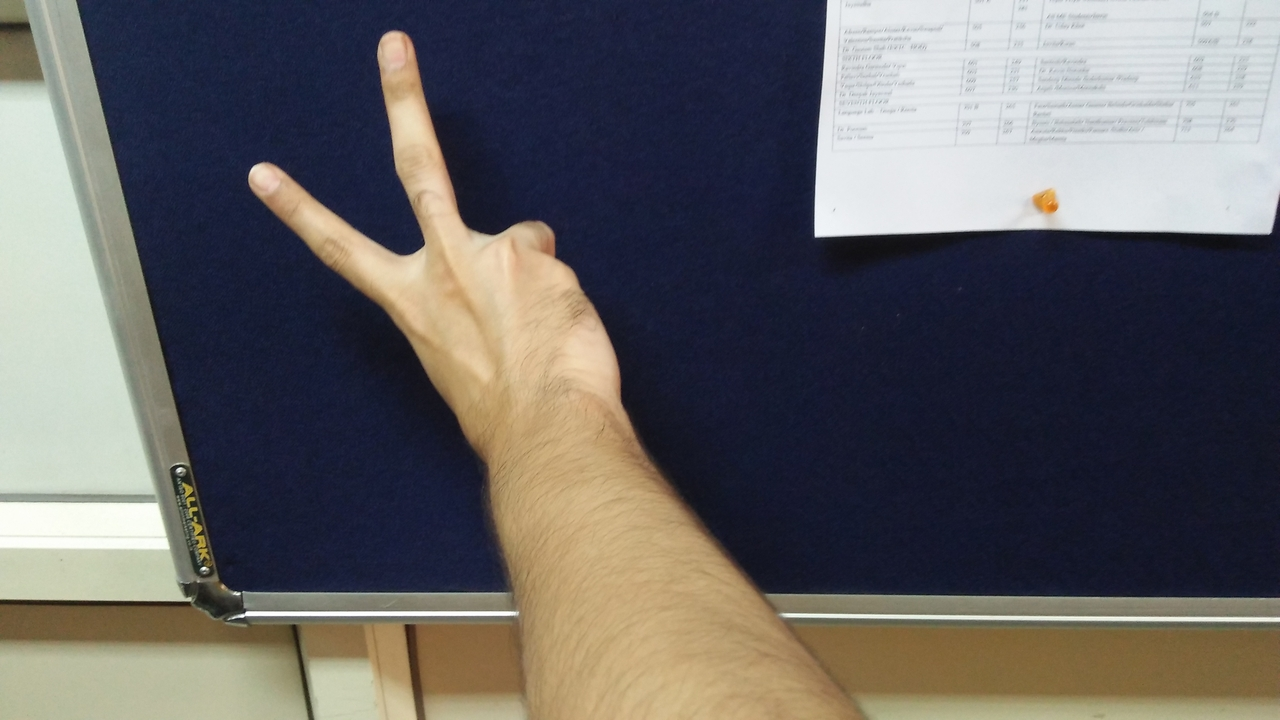fingertip: (232, 150, 304, 206), (364, 18, 422, 72)
